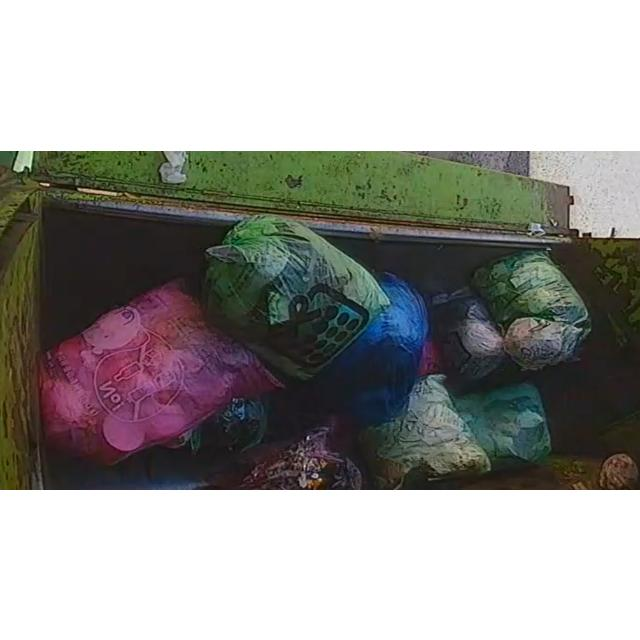general_trashbag: (205, 215, 390, 379), (361, 374, 491, 489), (471, 250, 591, 369), (452, 382, 551, 469), (432, 286, 504, 378)
other_trashbag: (40, 279, 282, 464), (311, 272, 428, 424)
